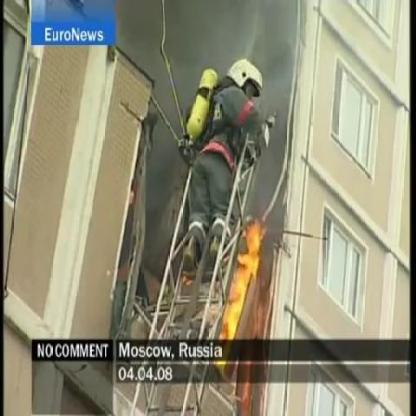fire: (219, 217, 268, 341), (180, 272, 194, 286)
